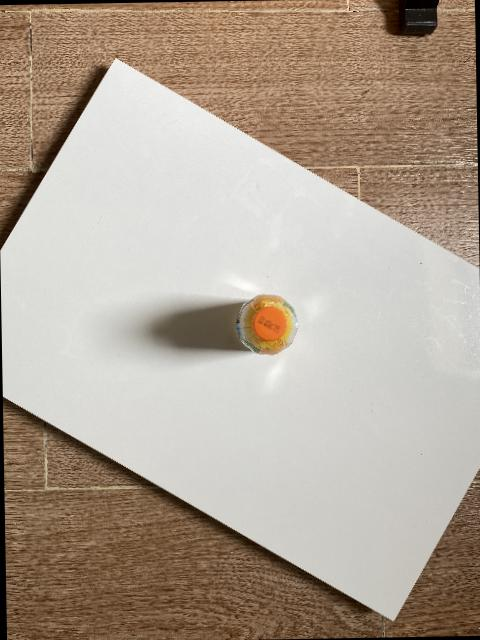teppy_orange_juice: (234, 293, 298, 354)
